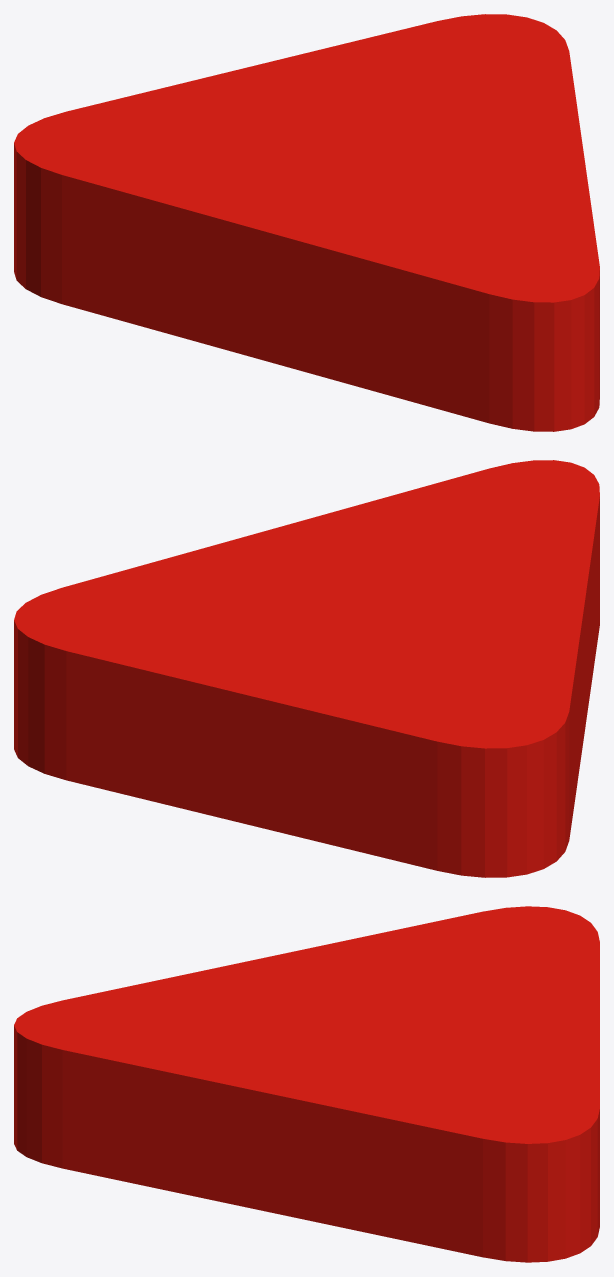
File: spinner_triangle.glb
3 renders of one model, top to bottom at view 1: azimuth 30°, elevation 25°; view 2: azimuth 150°, elevation 25°; view 3: azimuth 270°, elevation 25°, orthographic. The views are drawn at different scales.
Visible parts, largest first — view 1: spinner_triangle; view 2: spinner_triangle; view 3: spinner_triangle.
Boxes of the visible parts, left/top/right/bottom form: spinner_triangle: left=14, top=14, right=599, bottom=431; spinner_triangle: left=14, top=460, right=599, bottom=877; spinner_triangle: left=14, top=906, right=599, bottom=1262.
Bounding box in the file's own units: 0.4296 × 0.1 × 0.4476.
